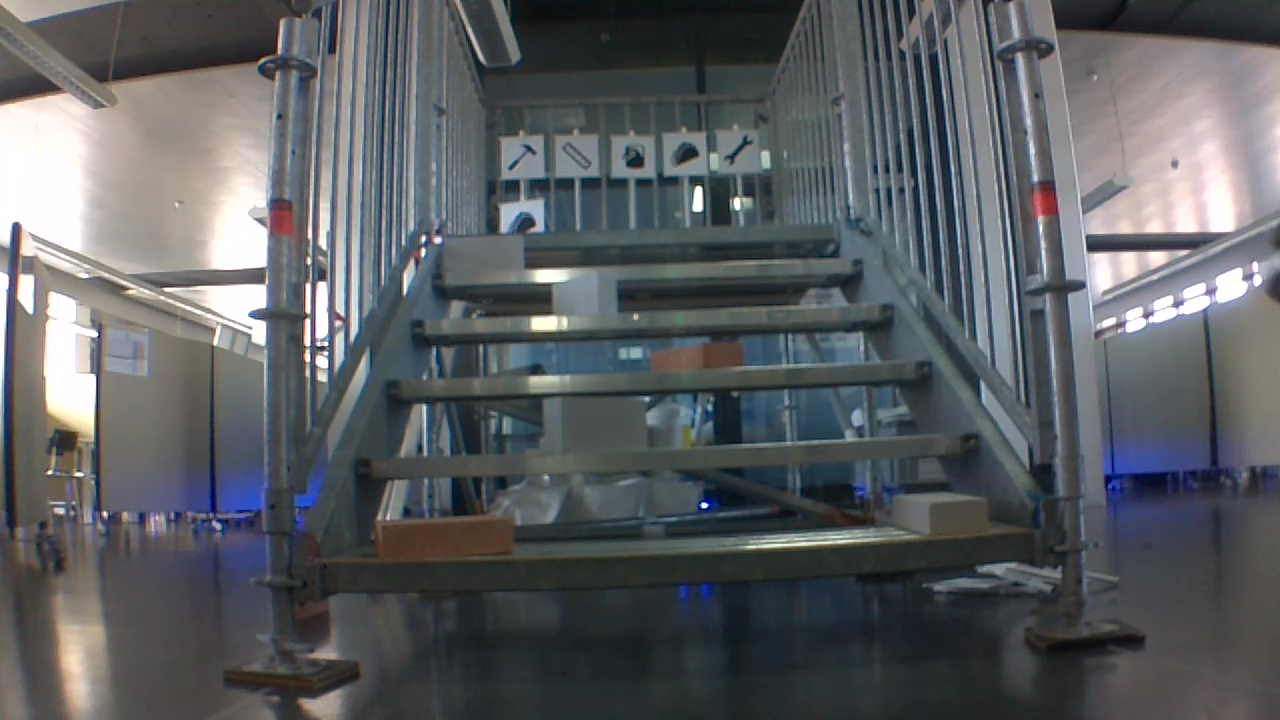brick: (374, 515, 508, 557), (541, 397, 645, 449), (895, 491, 988, 535), (446, 235, 523, 273), (552, 274, 615, 315), (655, 341, 740, 368)
bucket: (617, 138, 648, 171)
edge: (323, 530, 1030, 592), (355, 433, 982, 473), (388, 361, 935, 392), (407, 305, 891, 332), (432, 258, 868, 283), (445, 222, 841, 246)
hammer: (504, 141, 539, 176)
ruler: (557, 138, 594, 170)
stairs: (220, 5, 1149, 699)
steps: (315, 219, 1039, 604)
taco: (667, 137, 702, 169), (503, 208, 538, 232)
wrench: (720, 131, 756, 168)
